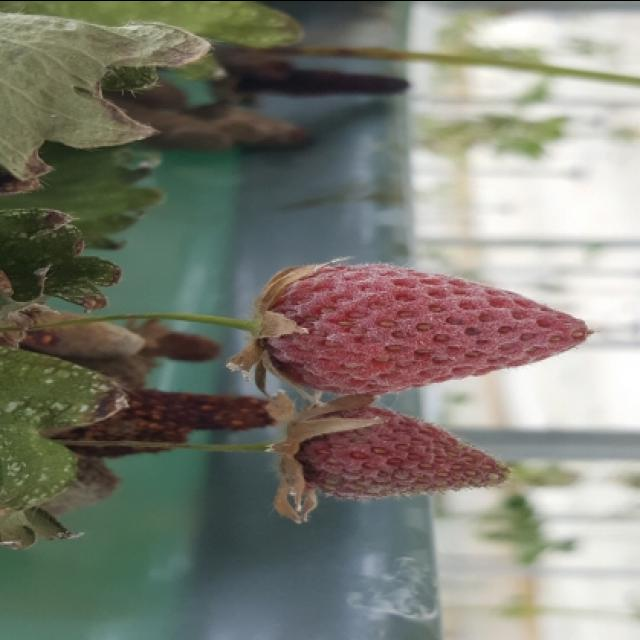Powdery Mildew Fruit: (255, 262, 593, 395), (282, 400, 514, 499)
